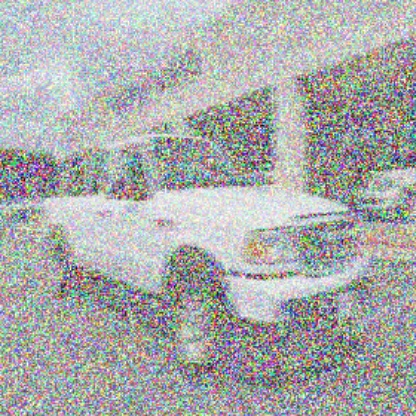Vehicle: (39, 131, 371, 387)
